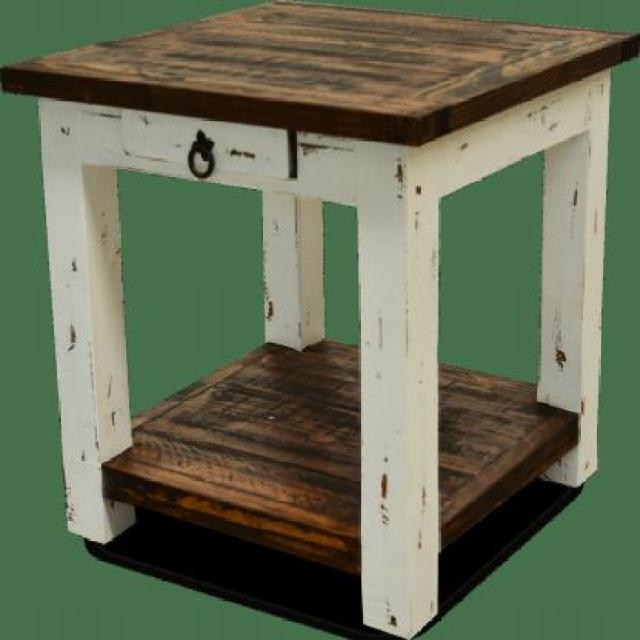table: (1, 2, 640, 639)
